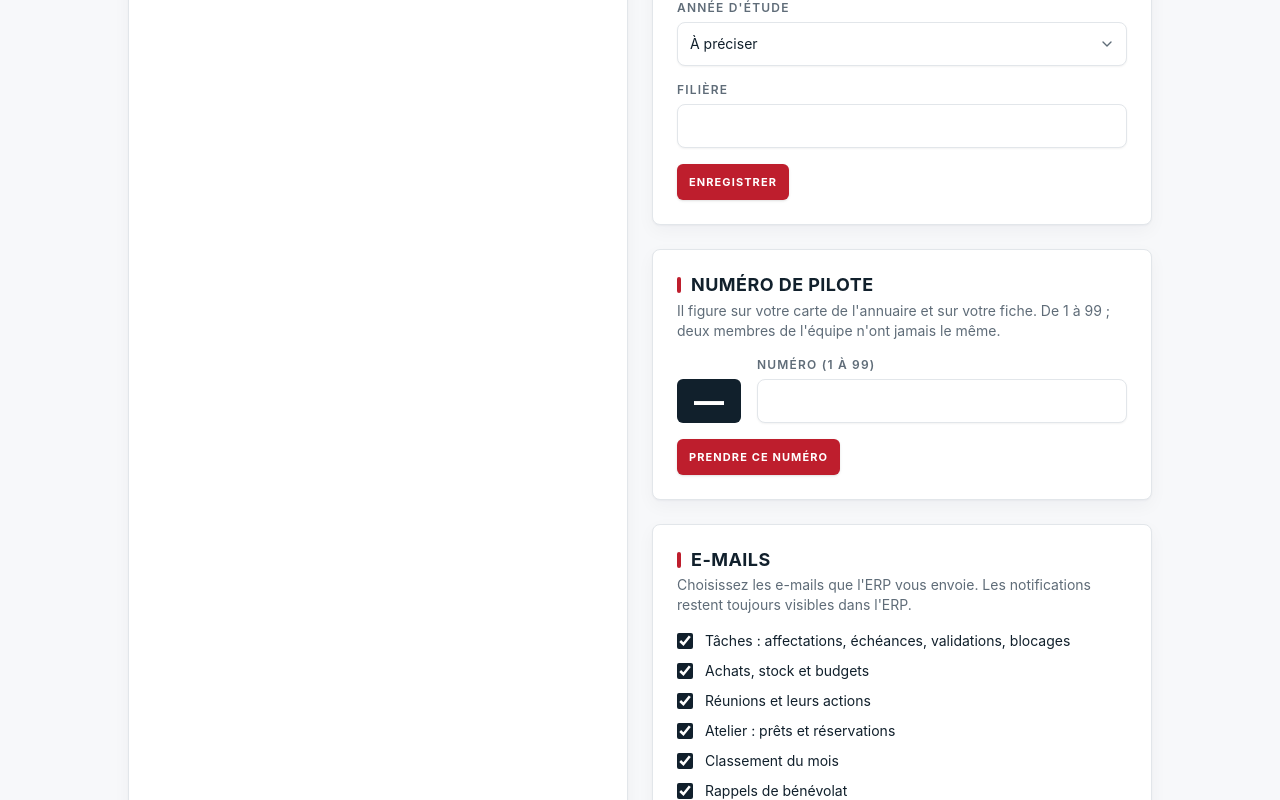
Scenario: ProfileView › lets the member choose their race number, then give it up
(page scrolled)
Type "16" into the number field labelled "Numéro (1 à 99)" at (942, 400), box [757,378,1127,422]
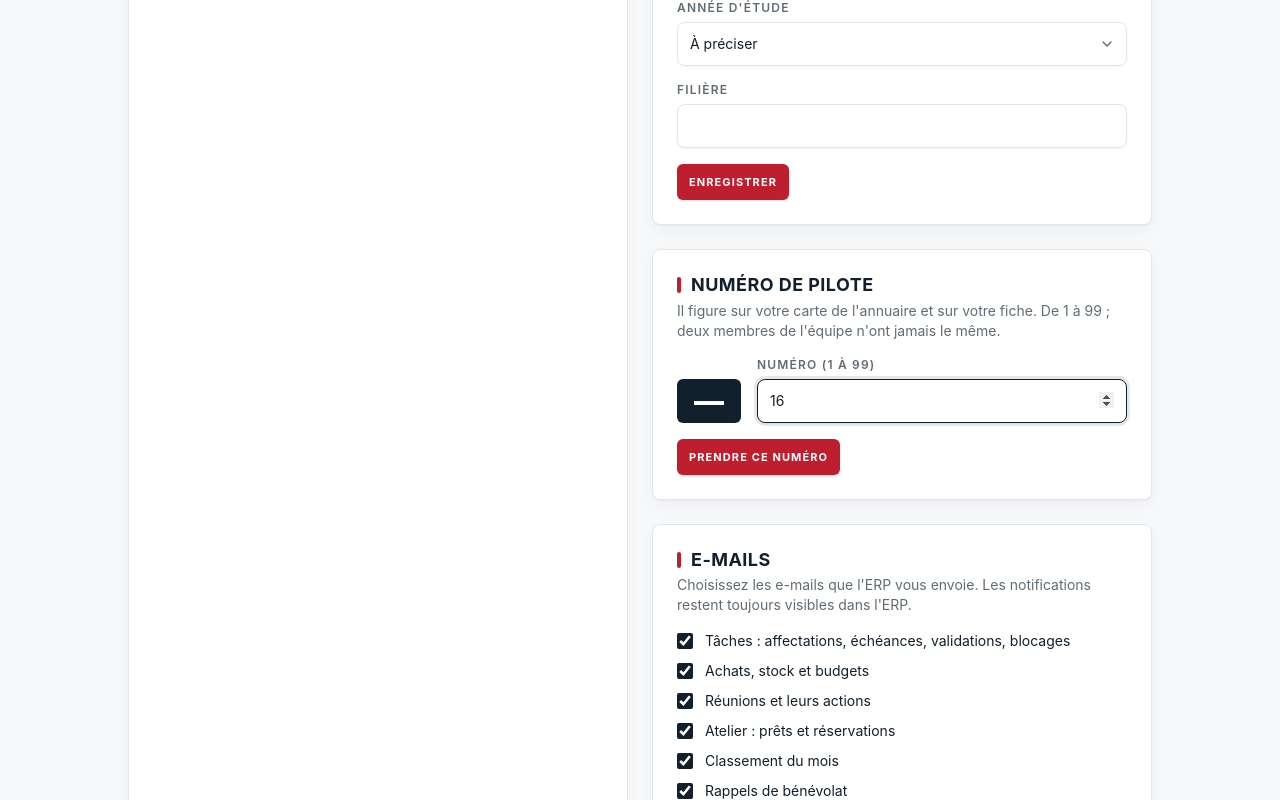
Click the button "Prendre ce numéro" at (759, 456), box [677,438,840,474]
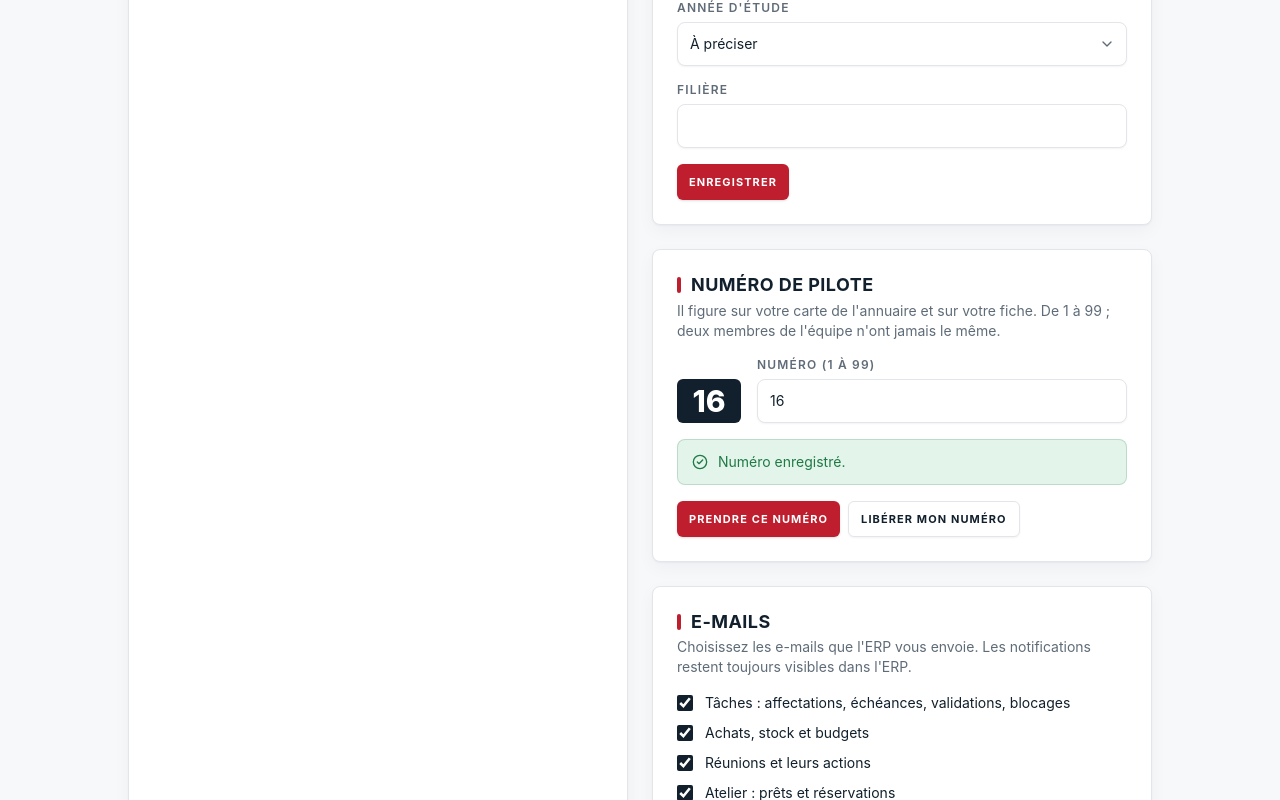
Result: the text "Numéro enregistré." is shown at [718,452,845,472]
Click the button "Libérer mon numéro" at (934, 518), box [848,500,1020,536]
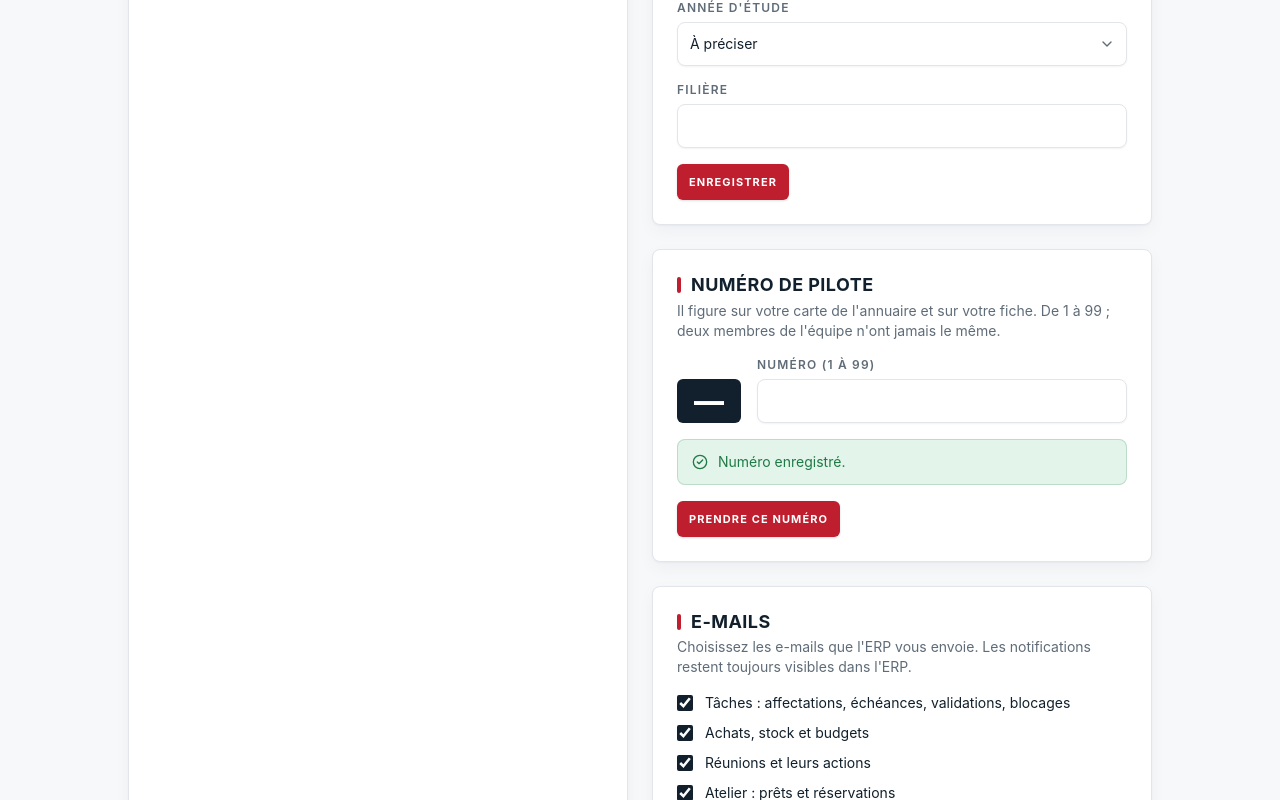
Result: the number field labelled "Numéro (1 à 99)" is not empty at [757,378,1127,422]
